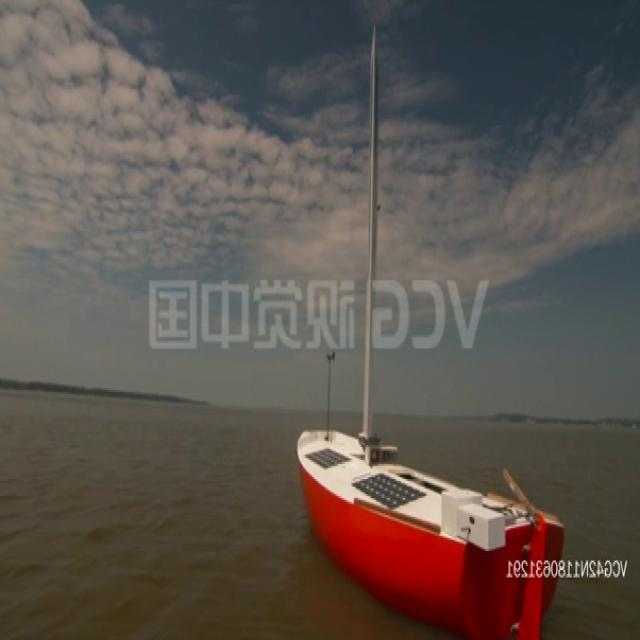houseboat: (294, 403, 569, 640)
